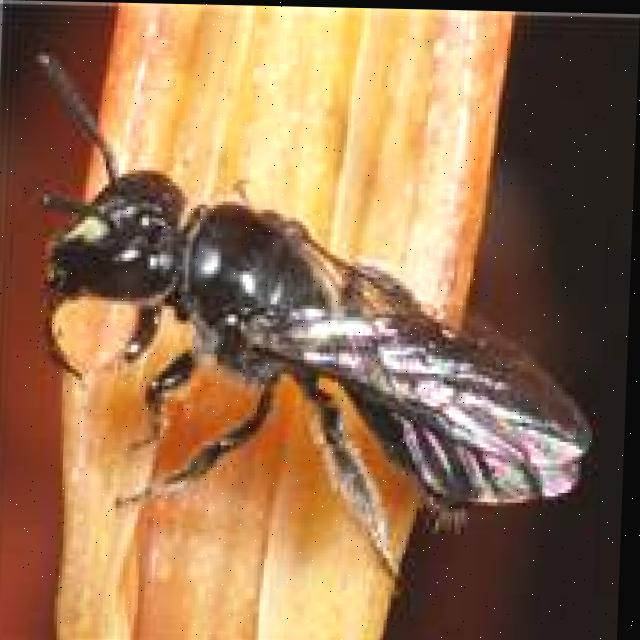Braunsapis: (12, 42, 599, 592)
